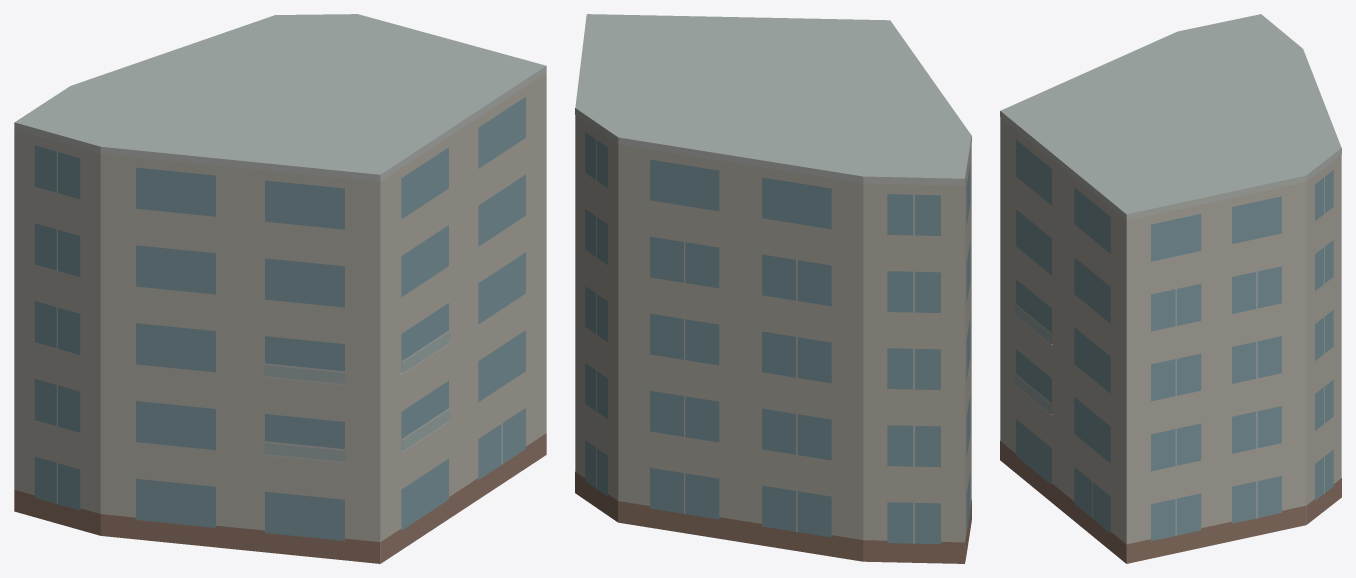
File: survey-upis-32868991.glb
3 renders of one model, left to right at view 1: azimuth 30°, elevation 25°; view 2: azimuth 150°, elevation 25°; view 3: azimuth 270°, elevation 25°, orthographic. The views are drawn at different scales.
Visible parts, largest first — view 1: survey-upis-32868991.tmp; view 2: survey-upis-32868991.tmp; view 3: survey-upis-32868991.tmp.
Boxes of the visible parts, x1=… form: survey-upis-32868991.tmp: x1=14, y1=14, x2=546, y2=563; survey-upis-32868991.tmp: x1=575, y1=14, x2=971, y2=563; survey-upis-32868991.tmp: x1=1000, y1=14, x2=1341, y2=563.
Size of the model in its own units: 16.42 by 13.35 by 11.83.
